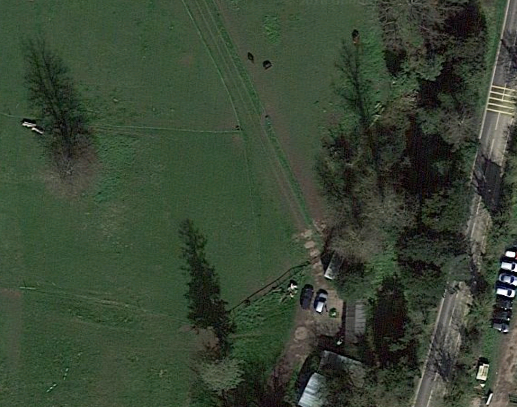tree: (25, 127, 116, 218), (185, 340, 254, 396), (332, 261, 382, 308)
